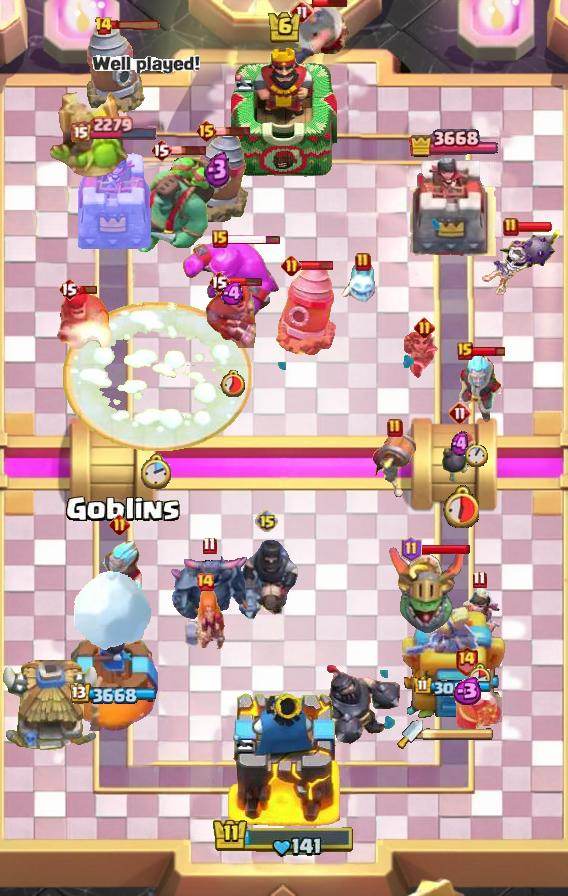bar: (399, 607, 507, 731)
bat: (341, 262, 385, 308)
bomber-evolution: (402, 332, 446, 380)
clock: (212, 817, 356, 859)
clone: (181, 237, 281, 321)
electro-spirit: (204, 151, 232, 189), (449, 677, 483, 705), (222, 282, 247, 306), (451, 431, 469, 457)
elixir: (441, 484, 478, 527), (141, 453, 173, 491), (221, 369, 248, 397), (468, 662, 491, 689), (464, 441, 487, 466)
elixir-collector: (430, 669, 502, 745)
emote: (226, 233, 281, 246), (419, 543, 471, 555), (110, 21, 162, 32), (470, 345, 506, 358), (171, 144, 209, 156), (216, 125, 253, 137), (517, 221, 553, 233), (298, 260, 334, 272), (229, 276, 264, 288), (312, 0, 349, 8), (78, 285, 98, 296)
goblin-ball: (480, 227, 564, 297)
golemite: (167, 553, 251, 625)
hog-rider: (181, 590, 229, 652)
ice-golem: (441, 427, 479, 483)
inferno-dragon: (235, 538, 299, 621)
king-tower: (226, 688, 342, 826), (231, 43, 337, 181)
king-tower-bar: (423, 727, 495, 741)
knight: (371, 430, 419, 500)
lava-hound: (132, 149, 218, 255)
magic-archer: (185, 128, 251, 226), (86, 22, 146, 116), (276, 262, 336, 356)
monk: (285, 3, 351, 69)
mortar: (445, 353, 507, 425), (93, 537, 145, 601)
night-witch: (387, 545, 467, 635)
phoenix-big: (64, 301, 252, 451)
phoenix-small: (204, 284, 262, 348), (54, 285, 112, 349)
prince: (0, 660, 102, 756)
queen-tower: (71, 144, 157, 255), (68, 633, 160, 731), (410, 156, 496, 256)
royal-guardian: (316, 662, 404, 748)
selected: (410, 126, 499, 161), (69, 114, 158, 141), (69, 683, 158, 706), (414, 676, 492, 696)
skeleton-dragon: (455, 586, 503, 648)
text: (454, 644, 479, 675), (290, 0, 314, 24), (448, 401, 472, 425), (255, 509, 279, 533), (194, 119, 217, 143), (401, 536, 422, 562), (150, 138, 172, 162), (208, 270, 230, 294), (58, 277, 80, 301), (282, 255, 303, 277), (414, 317, 435, 338), (110, 513, 131, 534), (195, 572, 215, 592), (95, 16, 114, 36), (503, 217, 519, 237), (355, 252, 371, 272), (387, 418, 403, 438), (212, 230, 228, 248), (457, 342, 473, 360), (472, 570, 487, 589), (202, 537, 217, 555)
wall-breaker: (72, 569, 154, 651)
x-bow: (47, 85, 133, 181)
